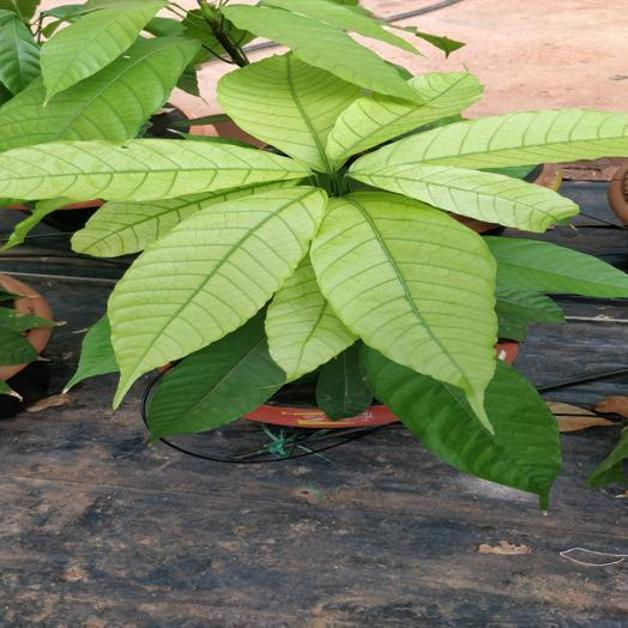Healthy Leaf: (109, 187, 326, 406), (310, 192, 496, 427), (0, 37, 192, 151), (0, 139, 309, 200), (226, 5, 418, 101), (350, 109, 627, 173), (218, 53, 361, 173), (349, 158, 576, 231), (72, 184, 289, 256), (327, 72, 482, 164), (41, 0, 165, 103), (265, 254, 356, 381), (264, 0, 412, 50)
Iron: (360, 346, 560, 508), (148, 314, 285, 437), (484, 237, 627, 297)
